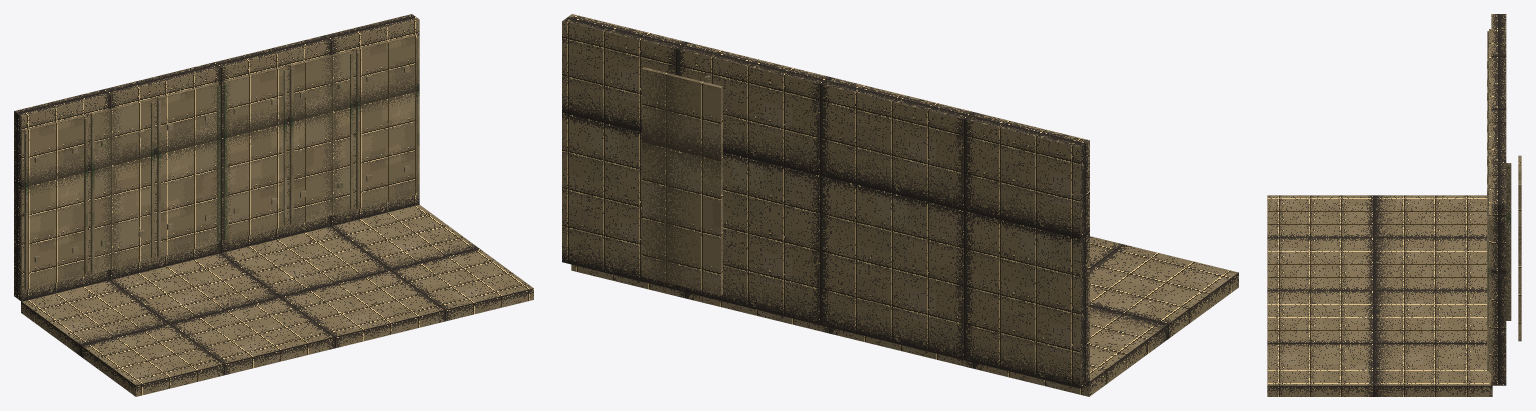
The model's file is secret_partial_sightline.glb.
The picture shows the model from 3 angles, left to right: view 1: azimuth 30°, elevation 25°; view 2: azimuth 150°, elevation 25°; view 3: azimuth 270°, elevation 25°; orthographic projection. The views are drawn at different scales.
Parts seen in each view (by area): view 1: secret_partial_sightline; view 2: secret_partial_sightline; view 3: secret_partial_sightline.
Part boxes in pixels (x1,y1,x2,y2): secret_partial_sightline: (14, 14, 533, 396); secret_partial_sightline: (562, 14, 1238, 396); secret_partial_sightline: (1267, 14, 1521, 396).
Bounding box in the file's own units: 7.2 × 3.4 × 4.06.
Materials: 4 (4 with a texture image).
